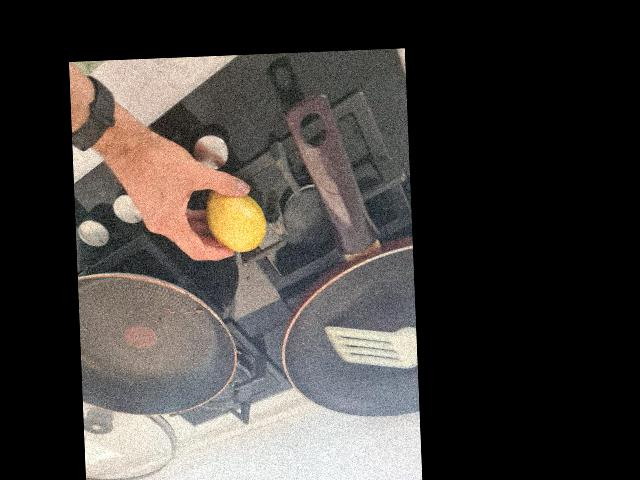lemon: (209, 187, 266, 254)
